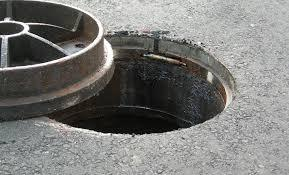open_manhole: (81, 17, 234, 142)
